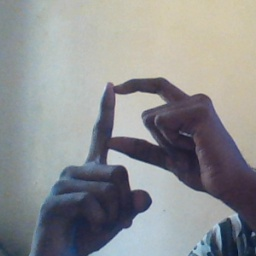D: (78, 74, 208, 203)
